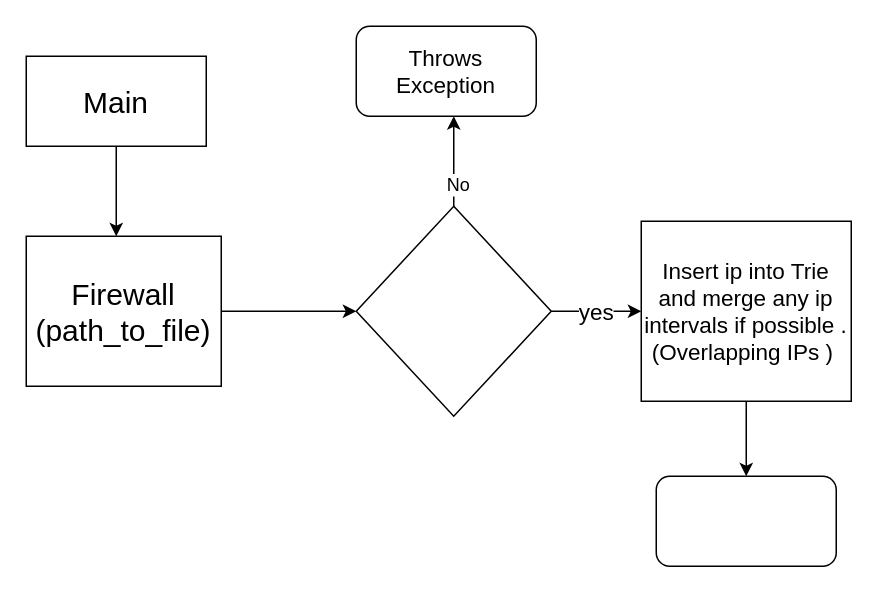
The diagram is 878 pixels wide and 593 high, and some of its shapes have lost their labels. The shapes that lost their labels are listed below. From the top down, each one's centre as x and y in pixels, then its label:
At [453,310]: "File read correctly ?".
At [745,520]: "Check for ports and merge any port intervals if possible.".
